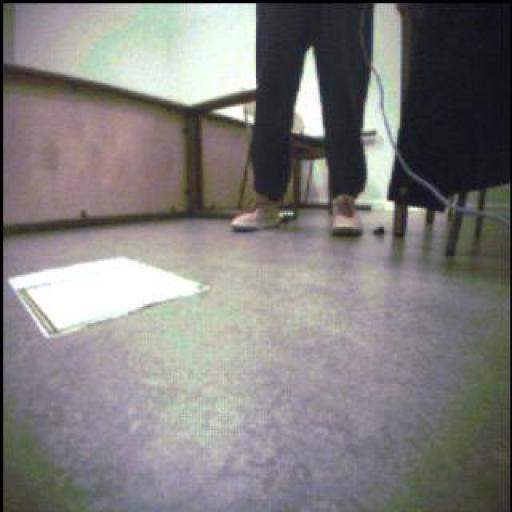Pad: (11, 259, 209, 339)
